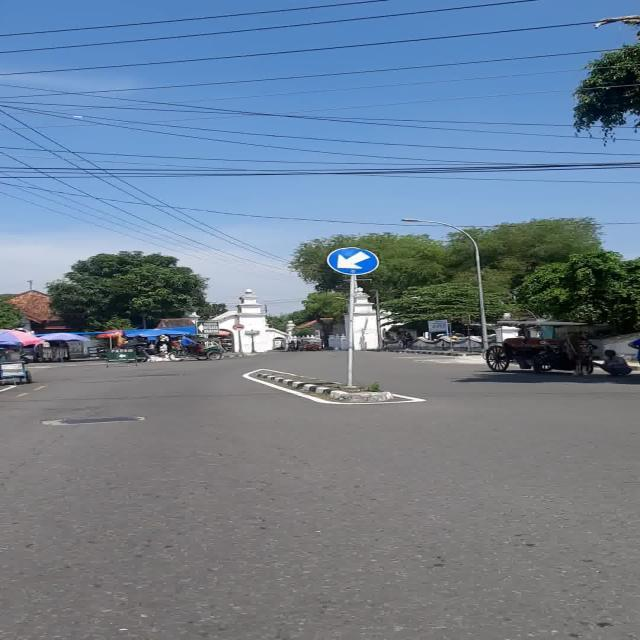Lajur Kiri: (326, 247, 379, 275)
